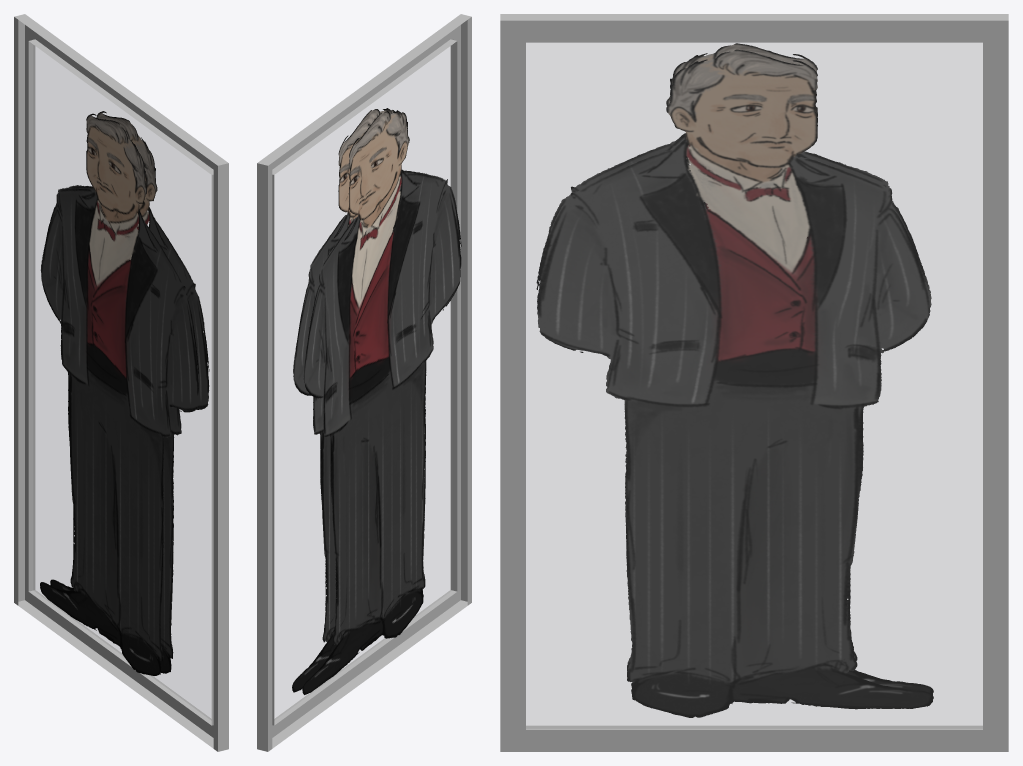
The model's file is Guy thorpes painting.fbx.
3 renders of one model, left to right at view 1: azimuth 30°, elevation 25°; view 2: azimuth 150°, elevation 25°; view 3: azimuth 270°, elevation 25°, orthographic. The views are drawn at different scales.
Visible parts, largest first — view 1: pCube1232, pasted__pCube848, pCube1231; view 2: pCube1232, pasted__pCube848, pCube1231; view 3: pasted__pCube848, pCube1232, pCube1231.
Boxes of the visible parts, x1,y1,x2,y2 form: pCube1232: (40,111,209,675); pasted__pCube848: (32,39,211,718); pCube1231: (14,14,228,751); pCube1232: (292,108,461,694); pasted__pCube848: (274,39,453,718); pCube1231: (257,14,471,751); pasted__pCube848: (526,43,982,728); pCube1232: (536,43,933,717); pCube1231: (500,14,1008,751).
Size of the model in its own units: 6.71 by 246 by 155.
